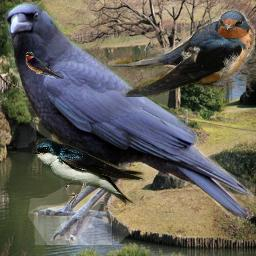Crow: (0, 2, 255, 245)
Swallow: (97, 9, 255, 97), (31, 139, 149, 209), (25, 51, 64, 79)
